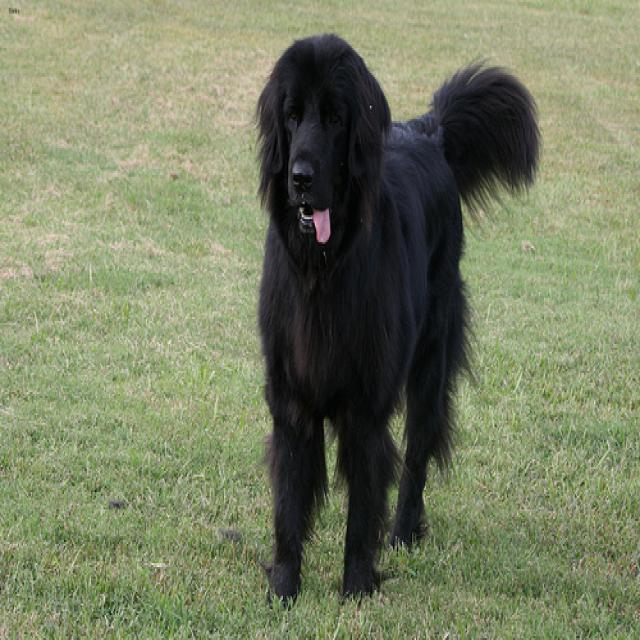dog-newfoundland: (241, 17, 550, 617)
